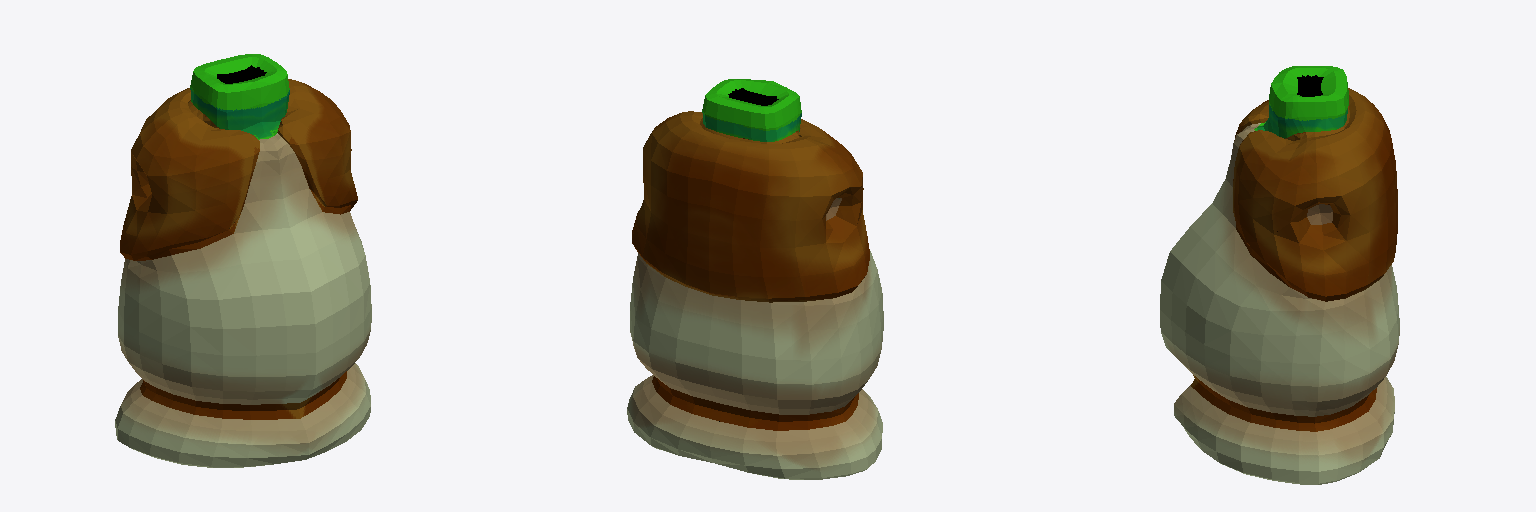
3 renders of one model, left to right at view 1: azimuth 30°, elevation 25°; view 2: azimuth 150°, elevation 25°; view 3: azimuth 270°, elevation 25°, orthographic.
Visible parts, largest first — view 1: Torso_Torso_Cube; view 2: Torso_Torso_Cube; view 3: Torso_Torso_Cube.
Part boxes in pixels (x1,y1,x2,y2): Torso_Torso_Cube: (115, 54, 371, 467); Torso_Torso_Cube: (627, 79, 883, 479); Torso_Torso_Cube: (1160, 66, 1399, 484).
Bounding box in the file's own units: 1.24 × 1.73 × 1.08.
1 materials, 1 textured.